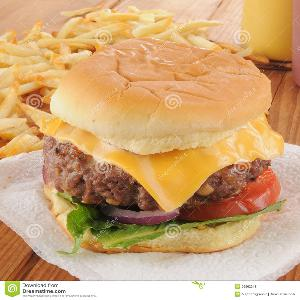cheeseburger: (45, 34, 284, 259)
